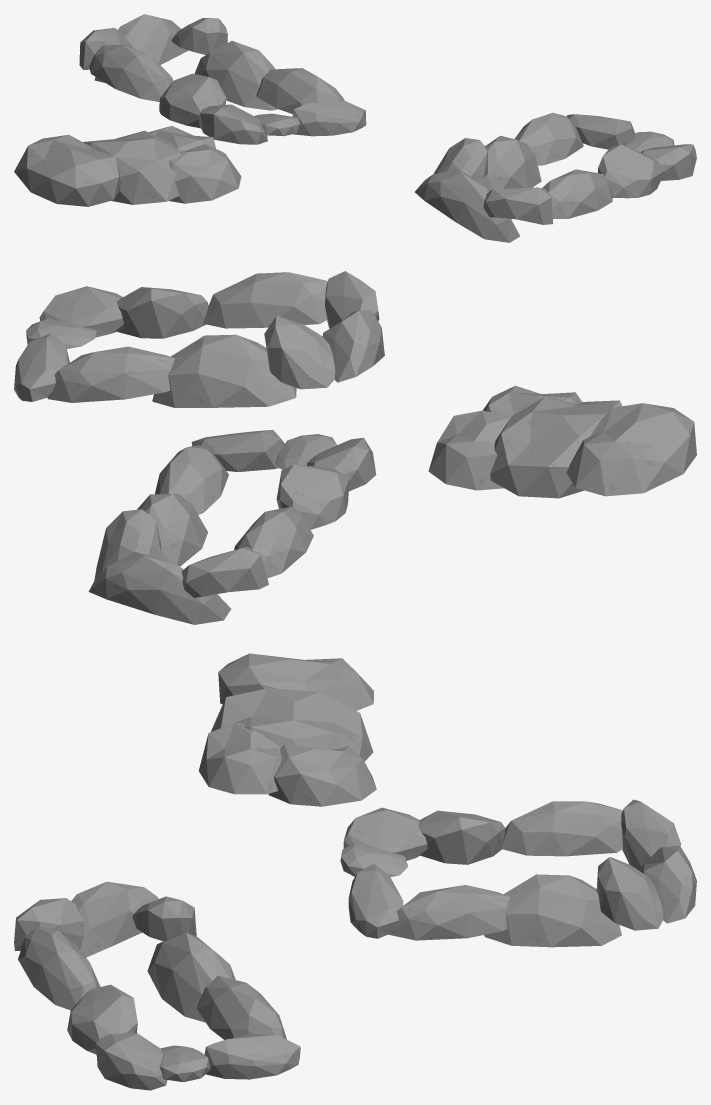
3 views of the same model, one above another, from view 1: azimuth 30°, elevation 25°; view 2: azimuth 150°, elevation 25°; view 3: azimuth 270°, elevation 25° (orthographic). The views are drawn at different scales.
Parts seen in each view (by area): view 1: Stonegrave3, Stonegrave1, Stonegrave2; view 2: Stonegrave1, Stonegrave3, Stonegrave2; view 3: Stonegrave3, Stonegrave1, Stonegrave2.
Part boxes in pixels (box(x1,y1,x2,y2)): Stonegrave3: box(79, 14, 366, 144); Stonegrave1: box(415, 112, 696, 242); Stonegrave2: box(14, 126, 241, 206); Stonegrave1: box(14, 271, 384, 407); Stonegrave3: box(88, 430, 376, 624); Stonegrave2: box(428, 385, 696, 498); Stonegrave3: box(340, 799, 696, 947); Stonegrave1: box(14, 881, 300, 1090); Stonegrave2: box(199, 653, 376, 806).
Bounding box in the file's own units: 11.85 × 2 × 10.19.
9 materials, 9 textured.
